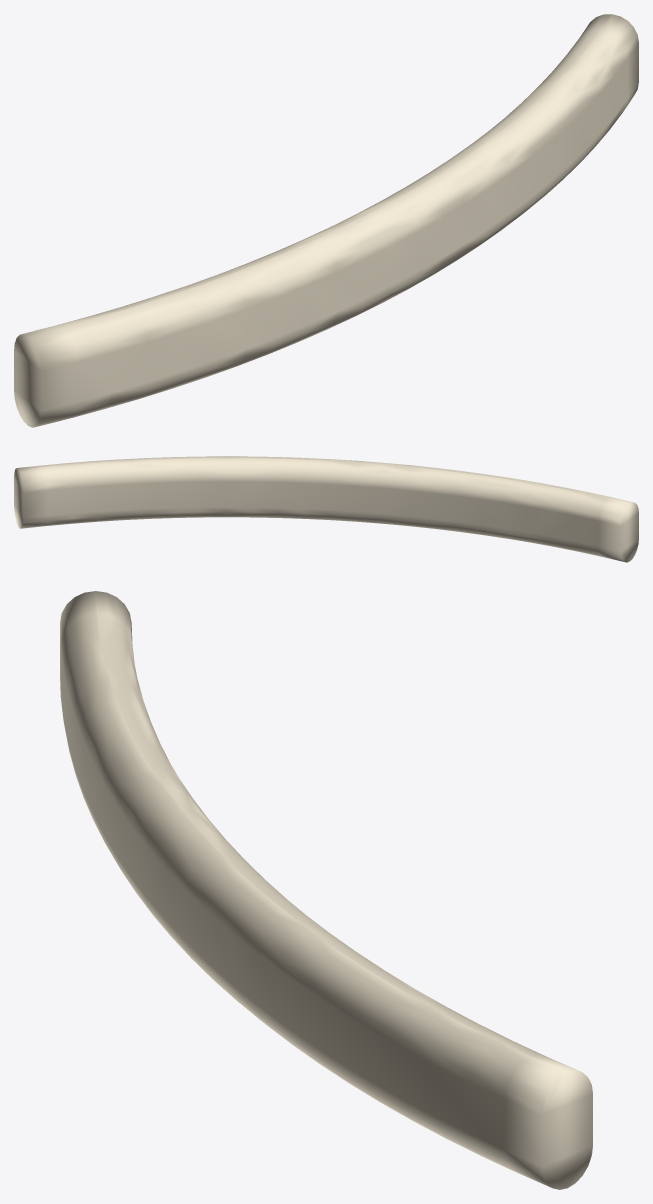
File: ArcBand_R2_A45.glb
3 views of the same model, one above another, from view 1: azimuth 30°, elevation 25°; view 2: azimuth 150°, elevation 25°; view 3: azimuth 270°, elevation 25° (orthographic). The views are drawn at different scales.
Parts seen in each view (by area): view 1: PBK_Band.006; view 2: PBK_Band.006; view 3: PBK_Band.006.
Boxes of the visible parts, <box> form: PBK_Band.006: <box>14,14,638,427</box>; PBK_Band.006: <box>14,456,638,562</box>; PBK_Band.006: <box>60,591,592,1189</box>.
Size of the model in its own units: 1.46 by 0.16 by 0.6685.
